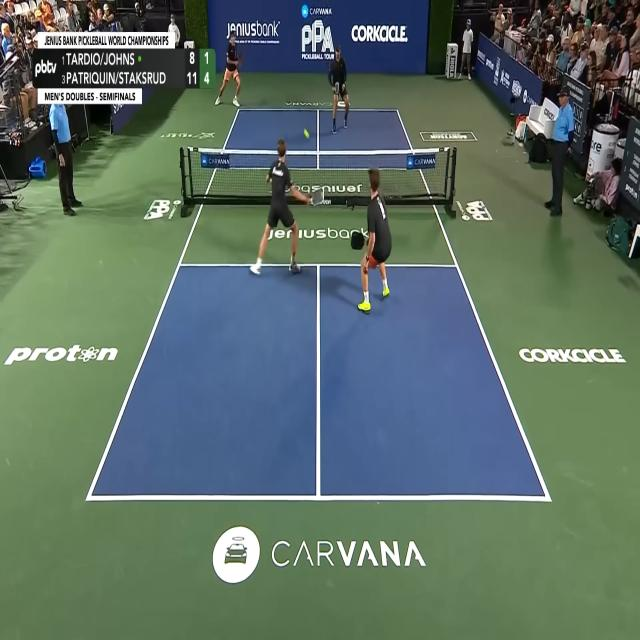ball: (304, 128, 309, 139)
